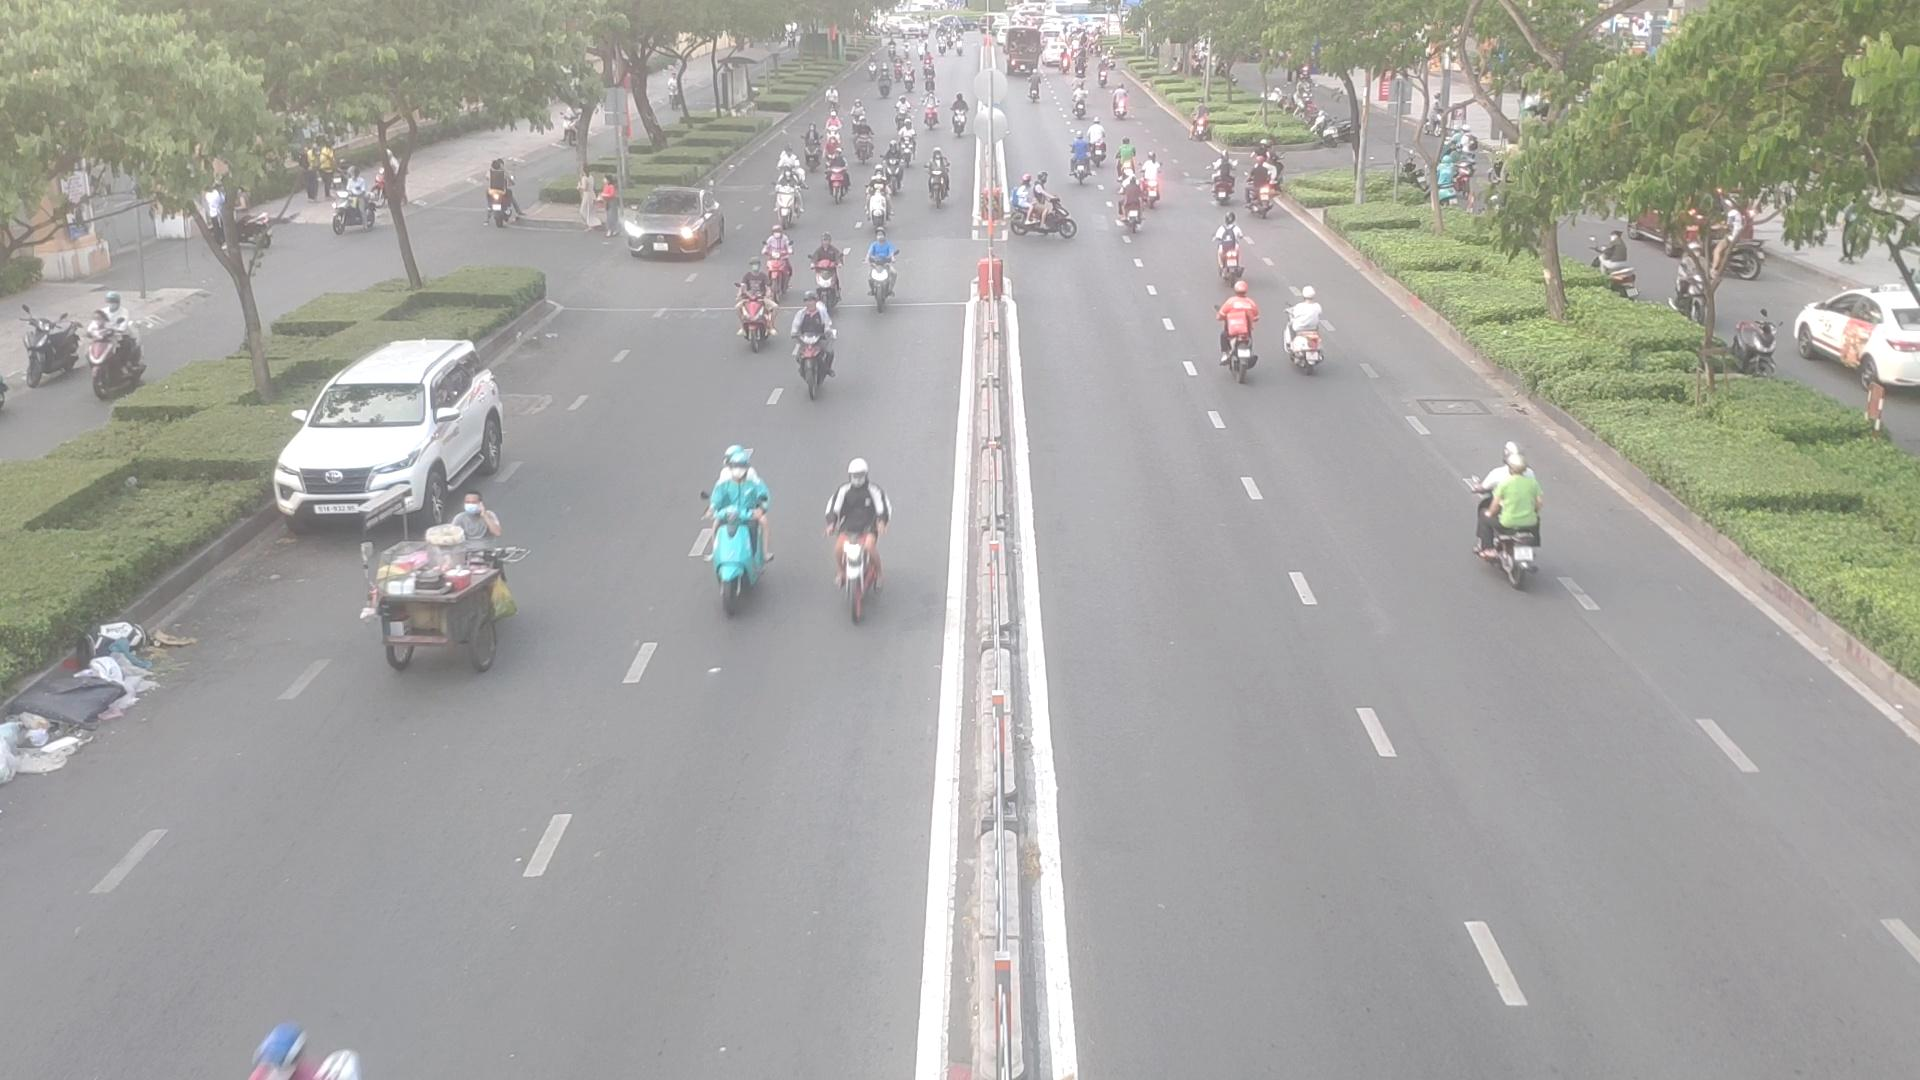car: (276, 334, 521, 524), (609, 193, 737, 266)
motorbike: (688, 452, 770, 612), (829, 462, 898, 624), (1462, 455, 1548, 583), (727, 266, 775, 353), (1280, 291, 1331, 375), (1218, 291, 1265, 378), (799, 295, 835, 396), (858, 232, 905, 309), (1011, 191, 1079, 243), (1213, 223, 1253, 286), (814, 233, 843, 306), (767, 223, 793, 305), (773, 166, 806, 223), (1117, 186, 1149, 237), (927, 156, 956, 208), (868, 162, 891, 223), (825, 156, 853, 199)
